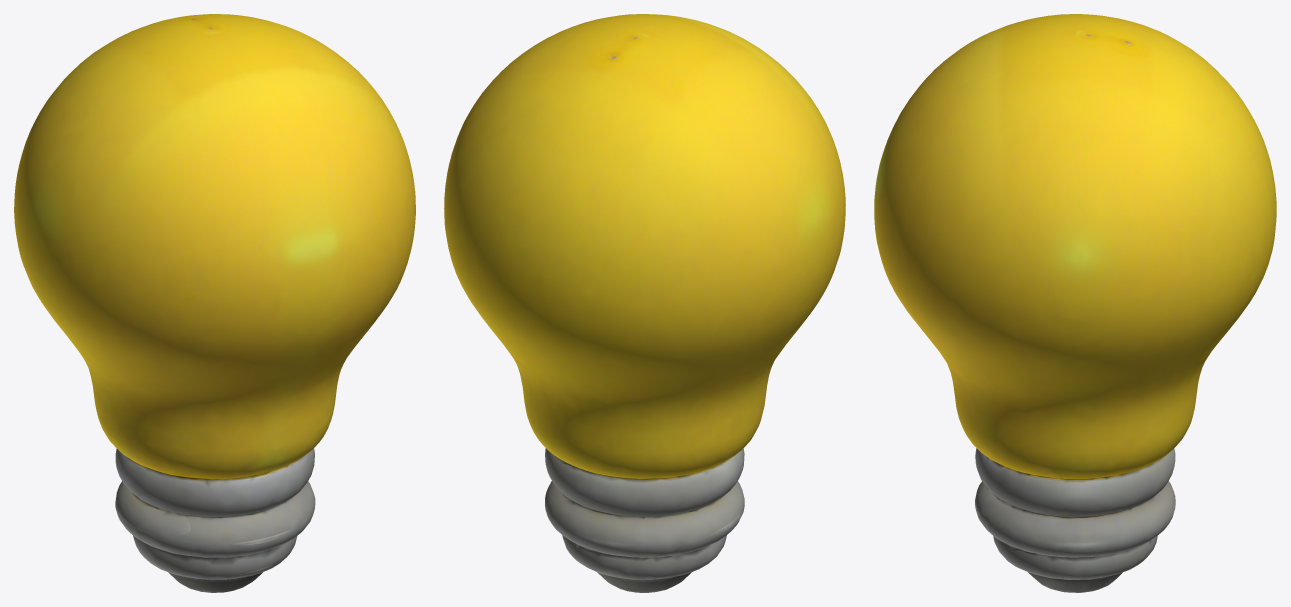
File: Eurupio.fbx
3 renders of one model, left to right at view 1: azimuth 30°, elevation 25°; view 2: azimuth 150°, elevation 25°; view 3: azimuth 270°, elevation 25°, orthographic.
Parts seen in each view (by area): view 1: Mesh_0.022; view 2: Mesh_0.022; view 3: Mesh_0.022.
Part boxes in pixels (x1,y1,x2,y2): Mesh_0.022: (14, 14, 415, 592); Mesh_0.022: (444, 14, 845, 592); Mesh_0.022: (874, 14, 1276, 592).
Size of the model in its own units: 93.07 by 92.83 by 140.
1 material, 1 textured.
